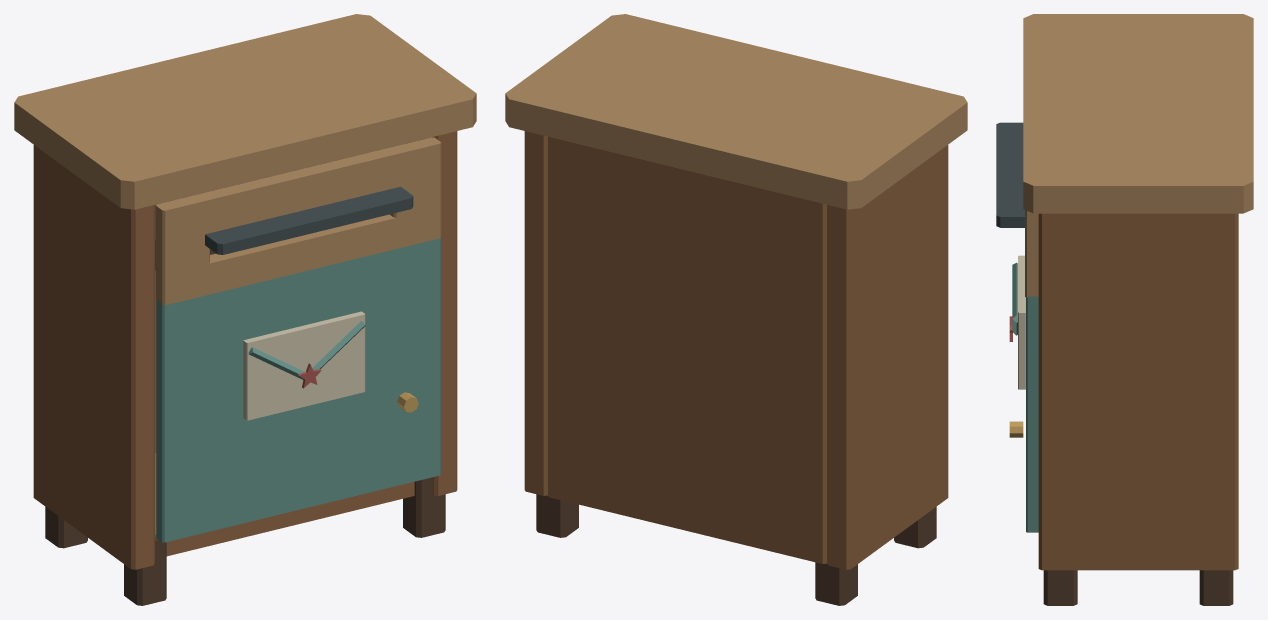
Rendered from greeting_cabinet.glb.
The picture shows the model from 3 angles, left to right: view 1: azimuth 30°, elevation 25°; view 2: azimuth 150°, elevation 25°; view 3: azimuth 270°, elevation 25°; orthographic projection.
Parts seen in each view (by area): view 1: geometry; view 2: geometry; view 3: geometry.
Boxes of the visible parts, <box> form: geometry: <box>14,14,476,605</box>; geometry: <box>505,14,967,605</box>; geometry: <box>996,14,1253,605</box>.
Bounding box in the file's own units: 1.2 × 1.4 × 0.76.
